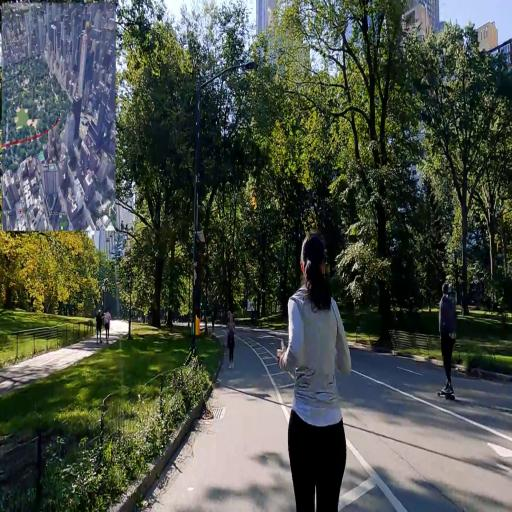Street_Light: (190, 58, 260, 350)
